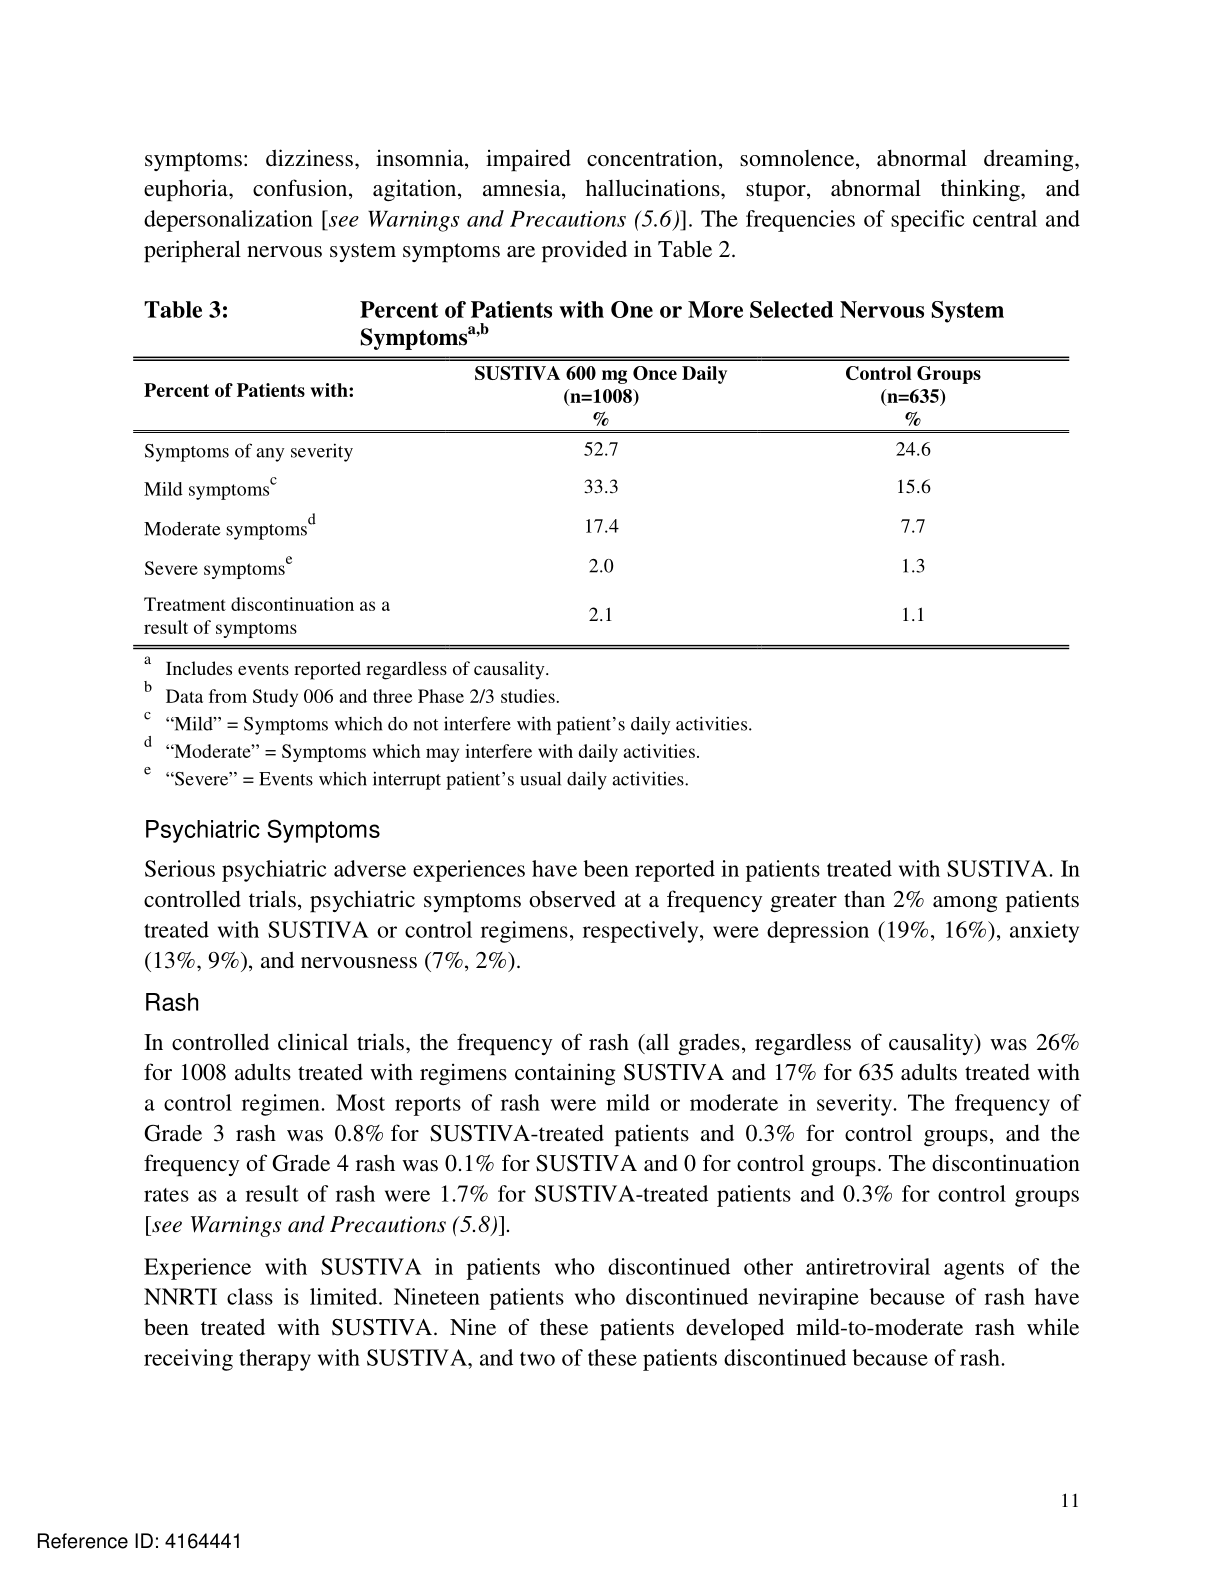partial_lined: (130, 356, 1071, 651)
